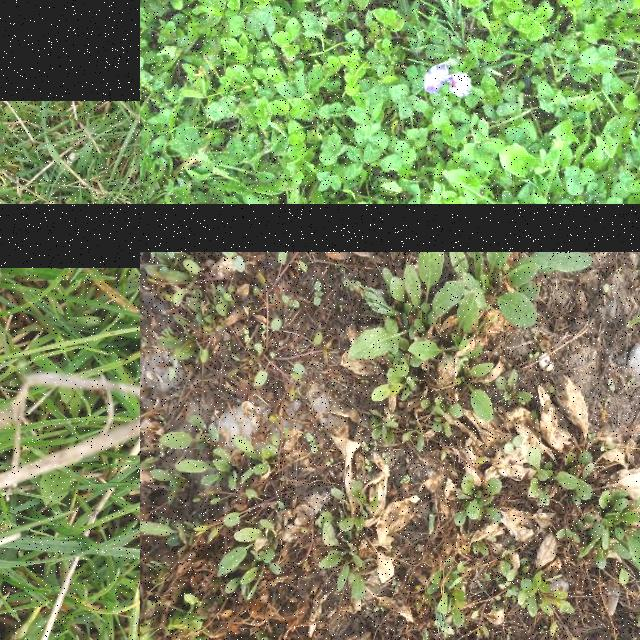flower: (424, 65, 448, 95), (450, 72, 472, 98)
